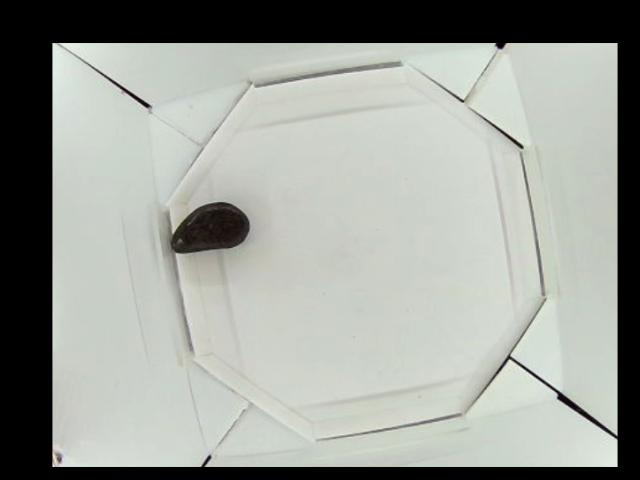Pebble: (168, 202, 249, 252)
